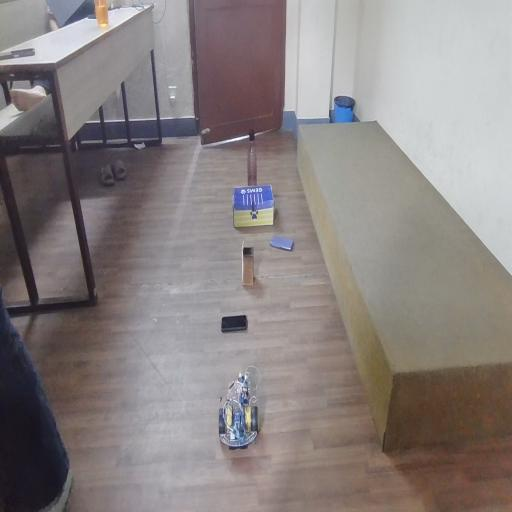Bottle: (242, 128, 268, 189)
car: (204, 370, 282, 445)
